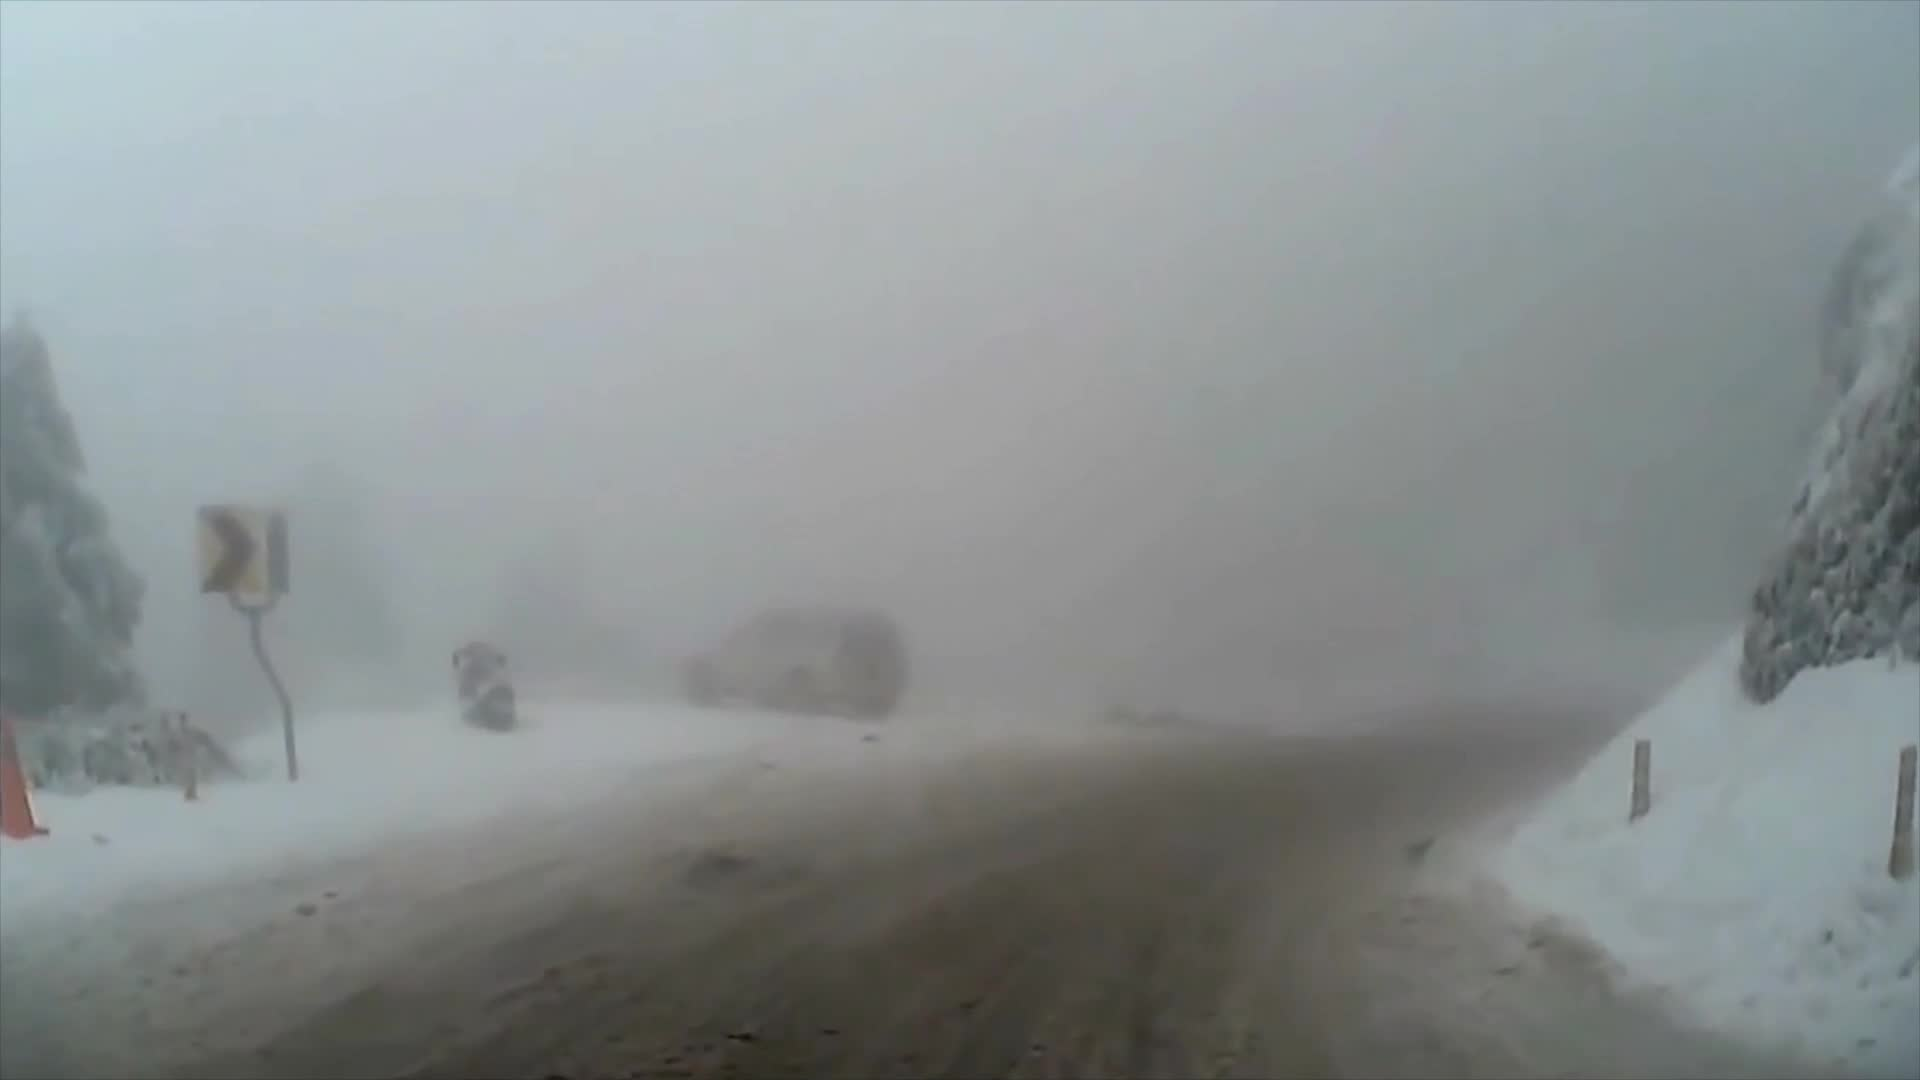vehicle: (678, 603, 905, 717)
